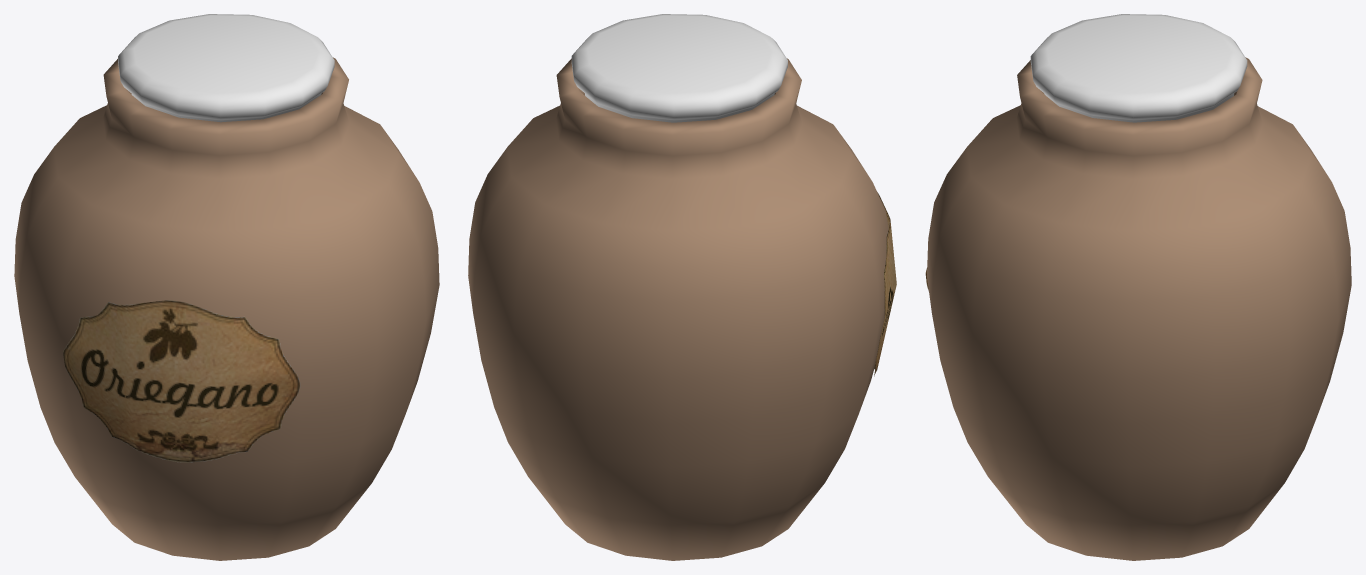
File: Origano.fbx
The picture shows the model from 3 angles, left to right: view 1: azimuth 30°, elevation 25°; view 2: azimuth 150°, elevation 25°; view 3: azimuth 270°, elevation 25°; orthographic projection.
Parts seen in each view (by area): view 1: 10_Origano; view 2: 10_Origano; view 3: 10_Origano.
Part boxes in pixels (<box>): 10_Origano: <box>14,14,439,560</box>; 10_Origano: <box>468,14,896,560</box>; 10_Origano: <box>925,14,1351,560</box>.
Size of the model in its own units: 10.19 by 12.05 by 10.2.
